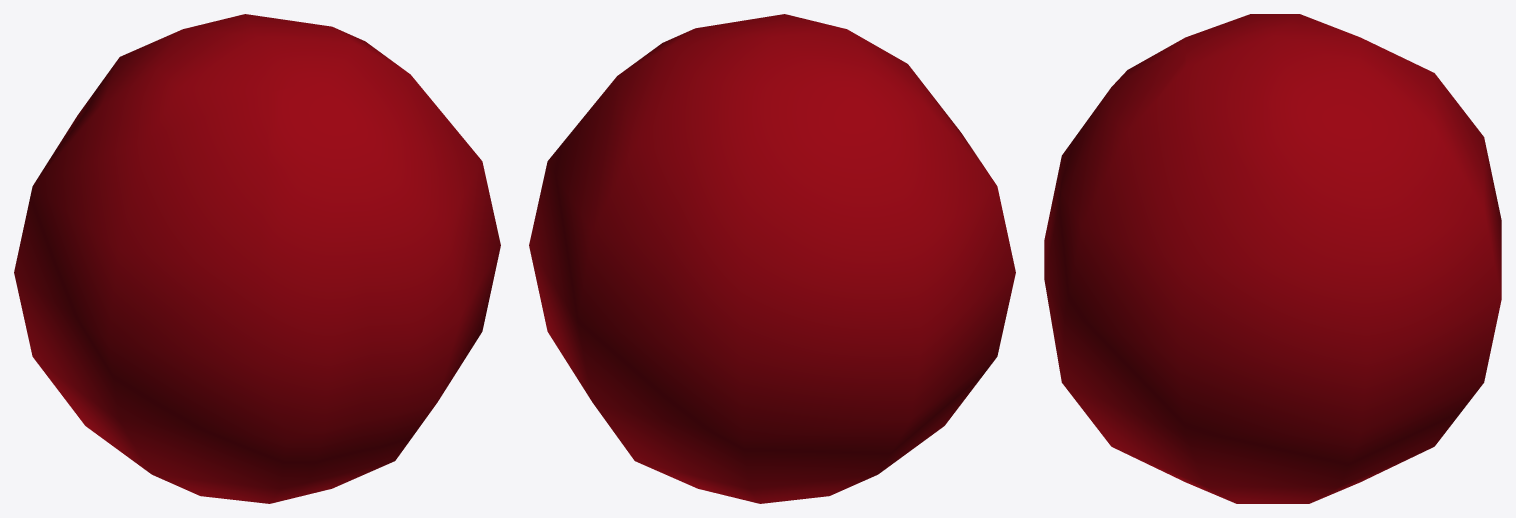
File: Normal Ball.fbx
The picture shows the model from 3 angles, left to right: view 1: azimuth 30°, elevation 25°; view 2: azimuth 150°, elevation 25°; view 3: azimuth 270°, elevation 25°; orthographic projection.
Visible parts, largest first — view 1: Normal Ball; view 2: Normal Ball; view 3: Normal Ball.
Part boxes in pixels (left/top/right/bottom): Normal Ball: left=14, top=14, right=500, bottom=503; Normal Ball: left=529, top=14, right=1015, bottom=503; Normal Ball: left=1044, top=14, right=1501, bottom=503.
Size of the model in its own units: 185 by 200 by 185.
